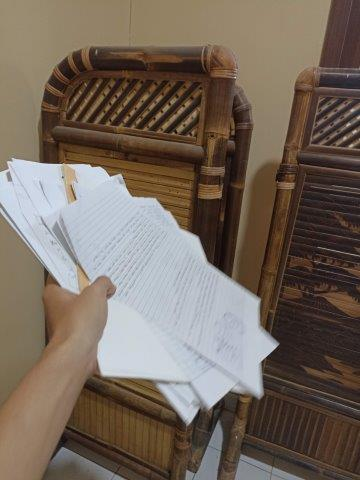kertas: (1, 158, 279, 423)
